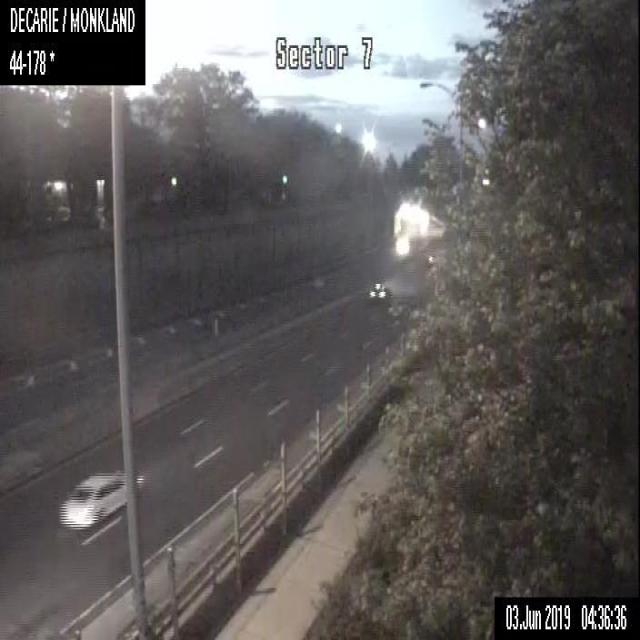vehicle: (58, 468, 126, 525), (368, 281, 393, 300)
